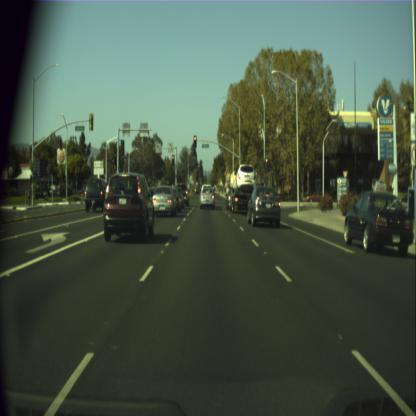Red: (194, 135, 196, 147)
RedLeft: (172, 154, 174, 165)
